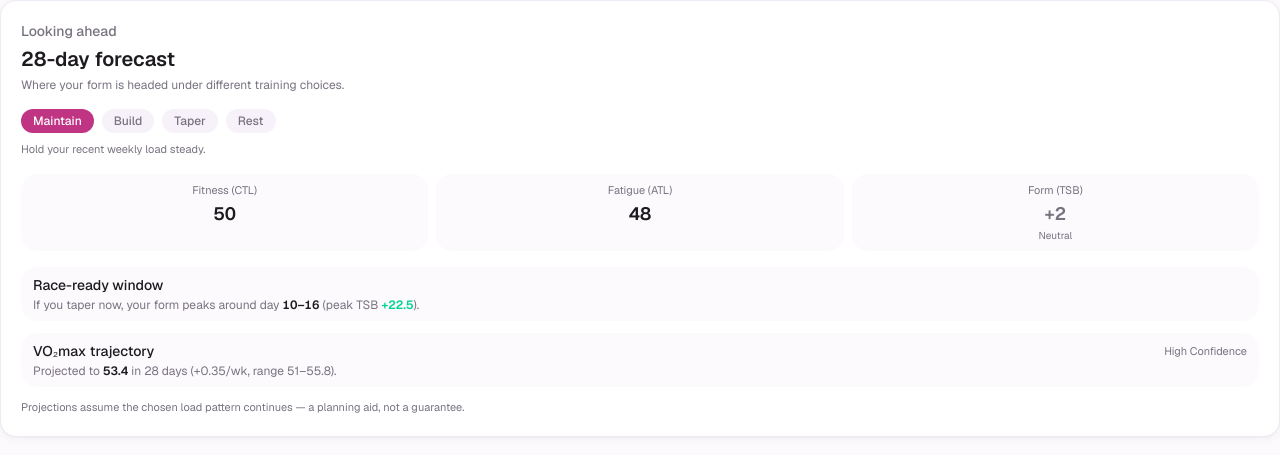
Test: LoadForecastCard › switches projected form when a different scenario is selected
Click the tab with test id "forecast-scenario-rest": (251, 121) [226,109,276,133]
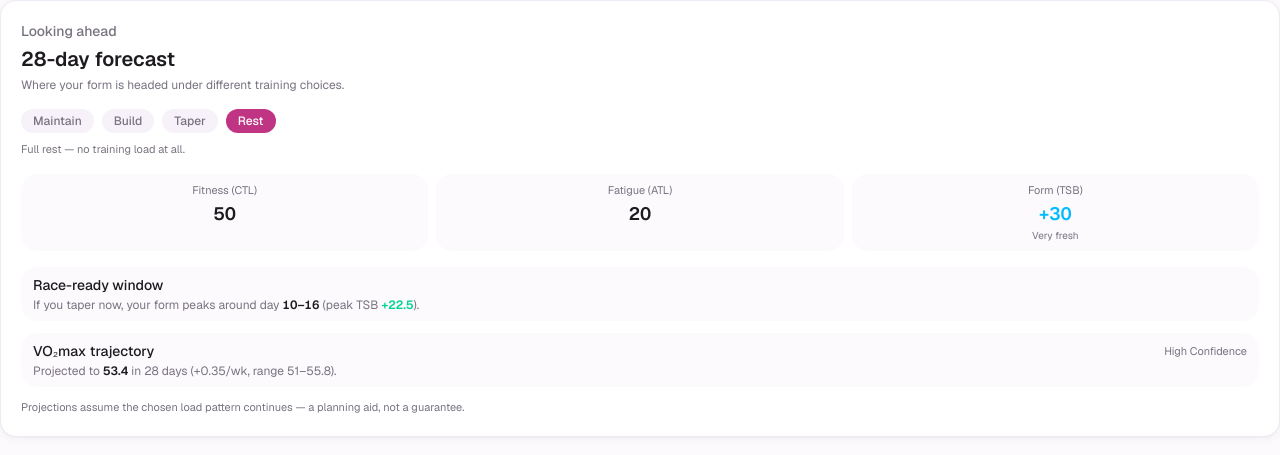
Expected: the text "+30" is shown, [1039,202,1072,225]
